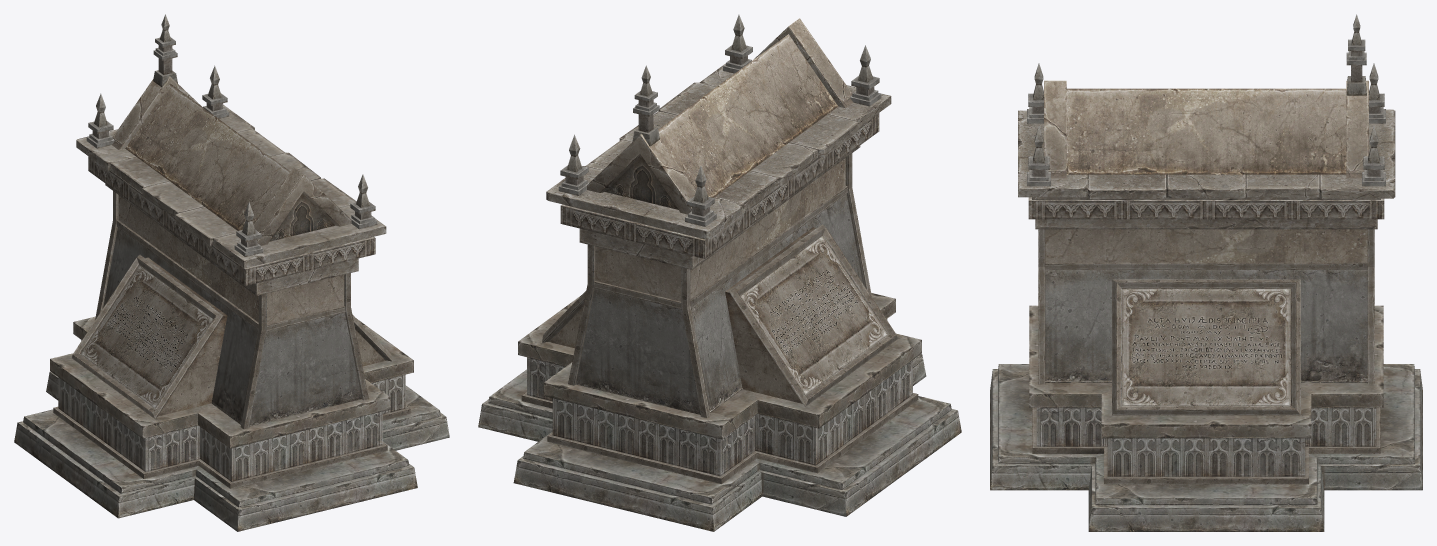
The model's file is bg_lut_lucastle_churchundertomb01_sm_phs.FBX.
The picture shows the model from 3 angles, left to right: view 1: azimuth 30°, elevation 25°; view 2: azimuth 150°, elevation 25°; view 3: azimuth 270°, elevation 25°; orthographic projection. The views are drawn at different scales.
Parts seen in each view (by area): view 1: bg_lut_lucastle_churchundertomb01_sm_phs; view 2: bg_lut_lucastle_churchundertomb01_sm_phs; view 3: bg_lut_lucastle_churchundertomb01_sm_phs.
Boxes of the visible parts, bbox=[...] form: bg_lut_lucastle_churchundertomb01_sm_phs: bbox=[14, 14, 449, 531]; bg_lut_lucastle_churchundertomb01_sm_phs: bbox=[478, 14, 961, 531]; bg_lut_lucastle_churchundertomb01_sm_phs: bbox=[990, 14, 1422, 531].
Size of the model in its own units: 527 by 573 by 527.
